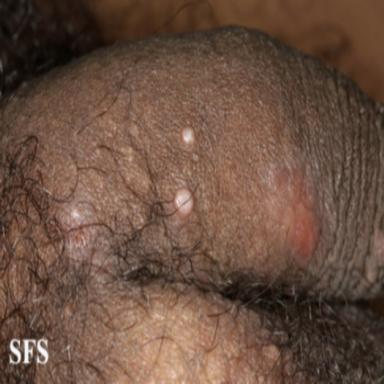Molluscum-Contagiosum: (173, 187, 194, 220), (179, 126, 197, 147), (71, 210, 79, 219)
